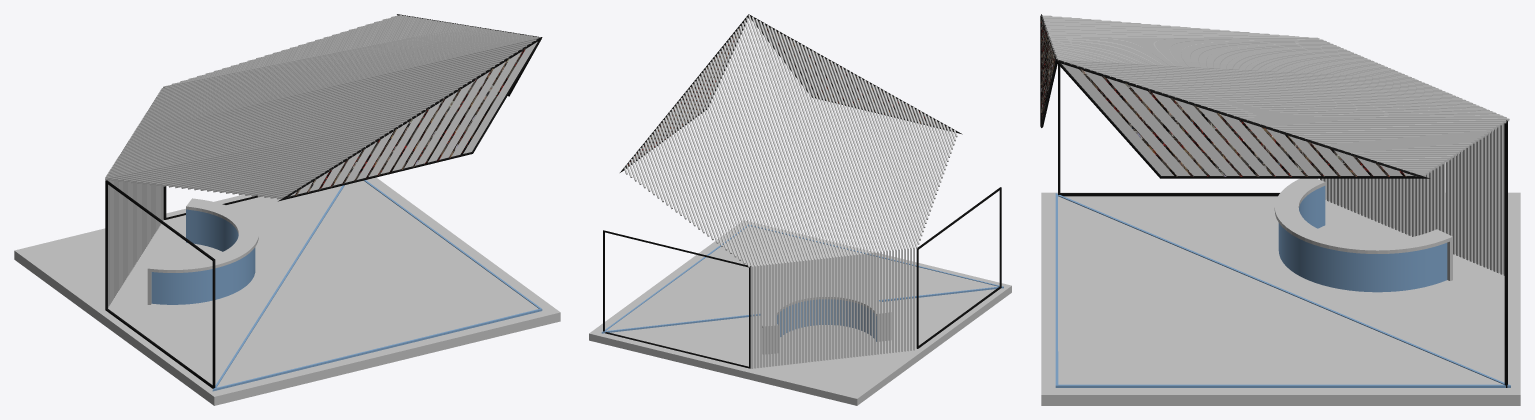
Rendered from 00_corner.fbx.
3 renders of one model, left to right at view 1: azimuth 30°, elevation 25°; view 2: azimuth 150°, elevation 25°; view 3: azimuth 270°, elevation 25°, orthographic. The views are drawn at different scales.
Visible parts, largest first — view 1: Woods, Floor02, Floor, Bar, Triangles, TrianglesSweep, WallFrames, TrianglesFrame; view 2: Woods, Floor, Floor02, Bar, Triangles, WallFrames, TrianglesSweep, TrianglesFrame; view 3: Woods, Floor02, Floor, Triangles, Bar, TrianglesSweep, TrianglesFrame, WallFrames.
Boxes of the visible parts, bbox=[...] form: Woods: bbox=[105, 15, 540, 307]; Floor02: bbox=[212, 180, 542, 391]; Floor: bbox=[14, 177, 560, 405]; Bar: bbox=[147, 198, 258, 304]; Triangles: bbox=[290, 41, 537, 196]; TrianglesSweep: bbox=[295, 48, 525, 195]; WallFrames: bbox=[105, 87, 257, 388]; TrianglesFrame: bbox=[278, 14, 542, 201]; Woods: bbox=[624, 14, 957, 368]; Floor: bbox=[589, 220, 1011, 405]; Floor02: bbox=[601, 224, 1003, 333]; Bar: bbox=[762, 290, 891, 354]; Triangles: bbox=[630, 19, 949, 163]; WallFrames: bbox=[603, 187, 1001, 368]; TrianglesSweep: bbox=[628, 24, 946, 166]; TrianglesFrame: bbox=[620, 14, 962, 172]; Woods: bbox=[1041, 15, 1509, 275]; Floor02: bbox=[1055, 193, 1510, 387]; Floor: bbox=[1041, 192, 1520, 405]; Triangles: bbox=[1042, 22, 1413, 175]; Bar: bbox=[1274, 178, 1452, 292]; TrianglesSweep: bbox=[1040, 20, 1406, 176]; TrianglesFrame: bbox=[1040, 14, 1429, 178]; WallFrames: bbox=[1058, 64, 1507, 387].
Size of the model in its own units: 1200 by 936 by 1203.
